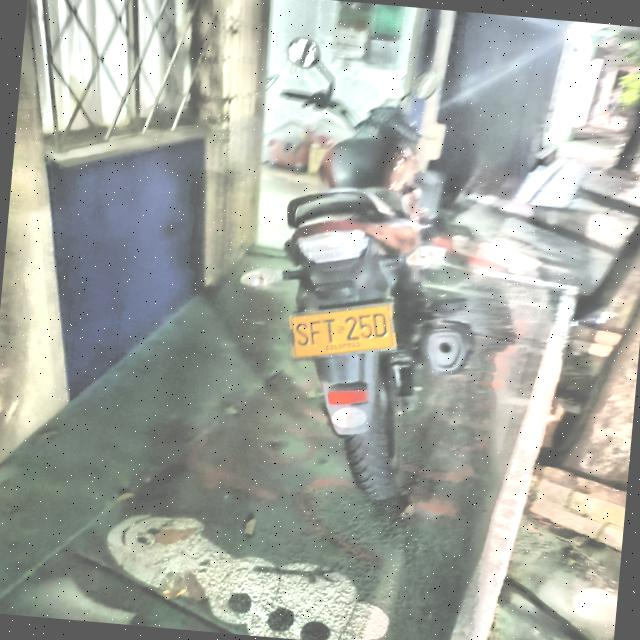plate: (289, 304, 395, 358)
